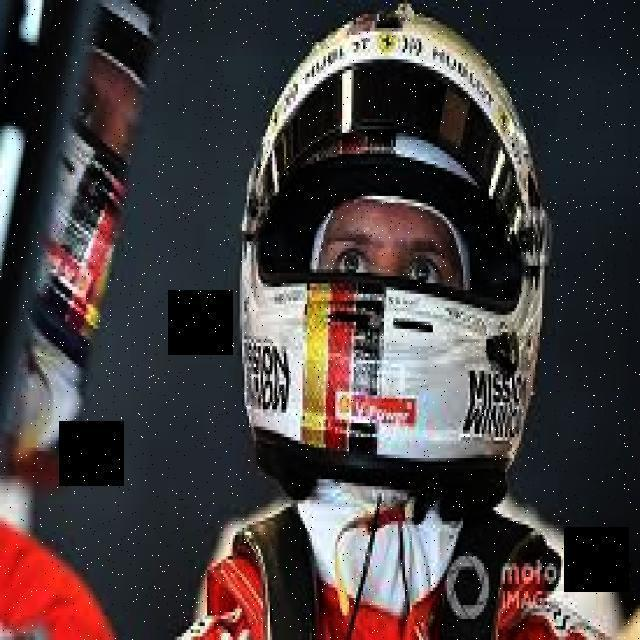helmet: (238, 4, 550, 502)
